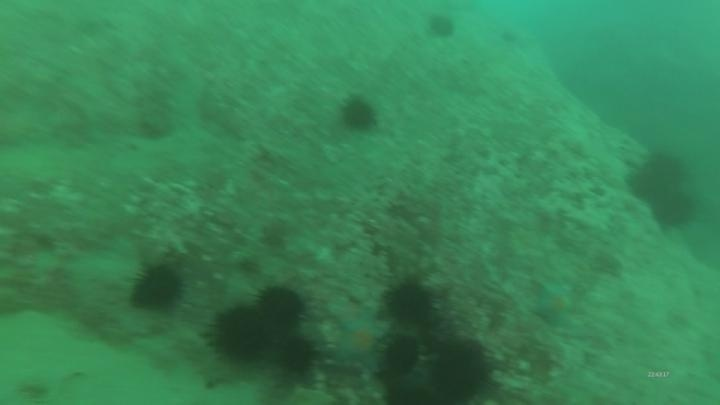echinus: (426, 338, 496, 404), (207, 303, 274, 365), (127, 260, 187, 315), (382, 277, 437, 327), (254, 283, 308, 330), (650, 188, 698, 231), (276, 333, 319, 378), (380, 333, 423, 377), (643, 149, 689, 188), (338, 93, 380, 135), (625, 162, 667, 204), (425, 12, 458, 42)
holothurian: (129, 56, 181, 140), (175, 326, 233, 391)
starfish: (330, 310, 392, 375), (530, 279, 579, 329), (380, 367, 439, 404), (325, 294, 377, 331)
